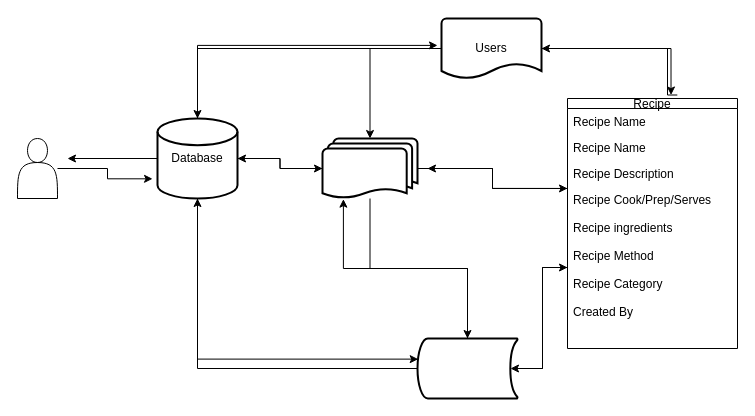
Image size: 755x416. Some labels were removed from this diagram. Here are the shapes that lost their labels. From the top down, the centre of each, then its label:
At [369,168]: "Recipes".
At [467,368]: "Categories".
